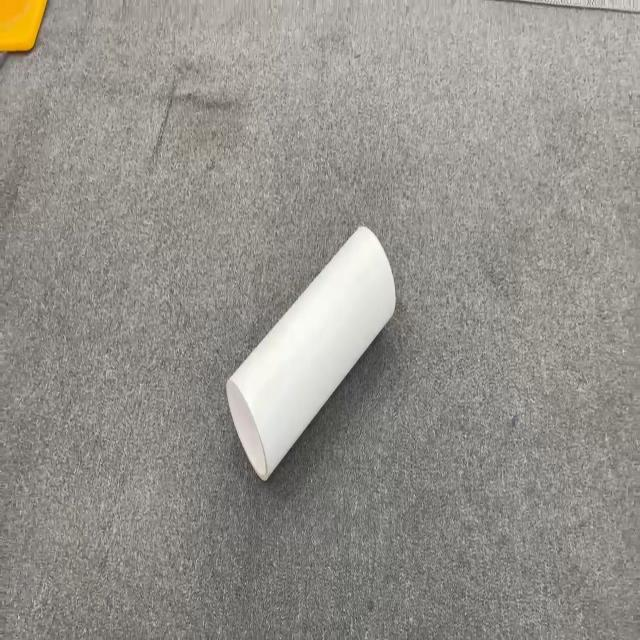coral: (225, 223, 396, 482)
